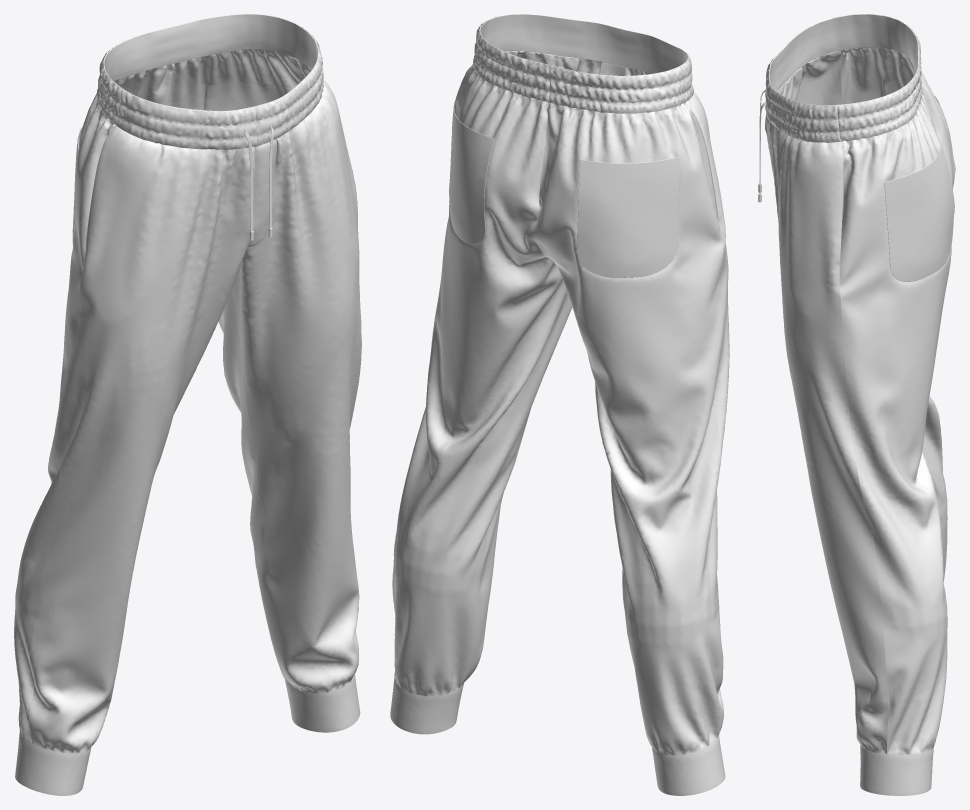
Rendered from jogger.glb.
3 renders of one model, left to right at view 1: azimuth 30°, elevation 25°; view 2: azimuth 150°, elevation 25°; view 3: azimuth 270°, elevation 25°, orthographic. The views are drawn at different scales.
Visible parts, largest first — view 1: jogger; view 2: jogger; view 3: jogger.
Boxes of the visible parts, x1,y1,x2,y2 form: jogger: (14, 14, 361, 795); jogger: (390, 14, 729, 795); jogger: (758, 14, 955, 795).
Bounding box in the file's own units: 0.3797 × 0.78 × 0.208.
1 material, 1 textured.
